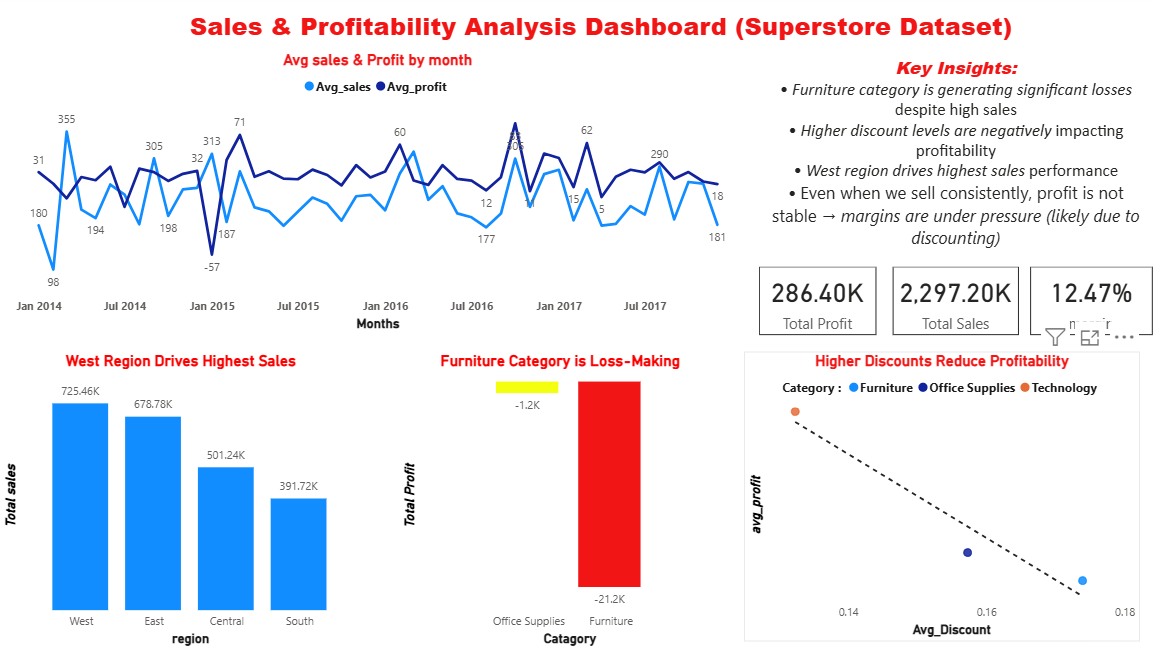

The page's visual inventory and layout, read from the dashboard file:
{"tool":"powerbi","page":{"name":"Overview","canvas":[1280,720],"ordinal":0},"visuals":[{"type":"card","fields":{"Values":["Sum(public overall_performance.total_sales)"]},"box":[981.1,299.1,138.6,75.5],"z":0},{"type":"card","fields":{"Values":["Sum(public overall_performance.total_profit)"]},"box":[834.3,299.1,129,75.5],"z":1000},{"type":"card","fields":{"Values":["public overall_performance.margin"]},"box":[1132.1,299.1,134.5,75.5],"z":2000},{"type":"clusteredColumnChart","title":"West Region Drives Highest Sales","fields":{"Category":["public region_analysis.region"],"Y":["Sum(public region_analysis.total_sales)"]},"box":[0,392.5,399.3,328],"z":3000},{"type":"clusteredColumnChart","title":"Furniture Category is Loss-Making","fields":{"Category":["public category_subcategory_analysis.category"],"Y":["Sum(public category_subcategory_analysis.total_profit)"]},"box":[437.7,392.5,356.8,328],"z":4000},{"type":"scatterChart","title":"Higher Discounts Reduce Profitability","fields":{"X":["public discount_impact_analysis.avg_discount"],"Y":["public discount_impact_analysis.avg_profit"],"Series":["public discount_impact_analysis.category"]},"box":[817.8,392.5,435,318.4],"z":5000},{"type":"textbox","box":[154.3,11.4,1014.3,50],"z":6000},{"type":"lineChart","title":"Avg sales & Profit by month","fields":{"Y":["Sum(public time_trend_analysis.avg_sales)"],"Category":["public time_trend_analysis.month"],"Y2":["Sum(public time_trend_analysis.profit)"]},"box":[13.7,61.7,804.1,312.9],"z":7000},{"type":"textbox","box":[834.3,61.7,432.2,237.4],"z":8000}]}

Visuals, with their boxes in screenshot pixels (x1, y1, x2, y2), scaled from the page's 1280x720 canvas onto the 1157x650 screenshot:
card - Sum(public overall_performance.total_sales): x1=887, y1=270, x2=1012, y2=338
card - Sum(public overall_performance.total_profit): x1=754, y1=270, x2=871, y2=338
card - public overall_performance.margin: x1=1023, y1=270, x2=1145, y2=338
"West Region Drives Highest Sales" clusteredColumnChart: x1=0, y1=354, x2=361, y2=649
"Furniture Category is Loss-Making" clusteredColumnChart: x1=396, y1=354, x2=718, y2=649
"Higher Discounts Reduce Profitability" scatterChart: x1=739, y1=354, x2=1132, y2=642
textbox: x1=139, y1=10, x2=1056, y2=55
"Avg sales & Profit by month" lineChart: x1=12, y1=56, x2=739, y2=338
textbox: x1=754, y1=56, x2=1145, y2=270
